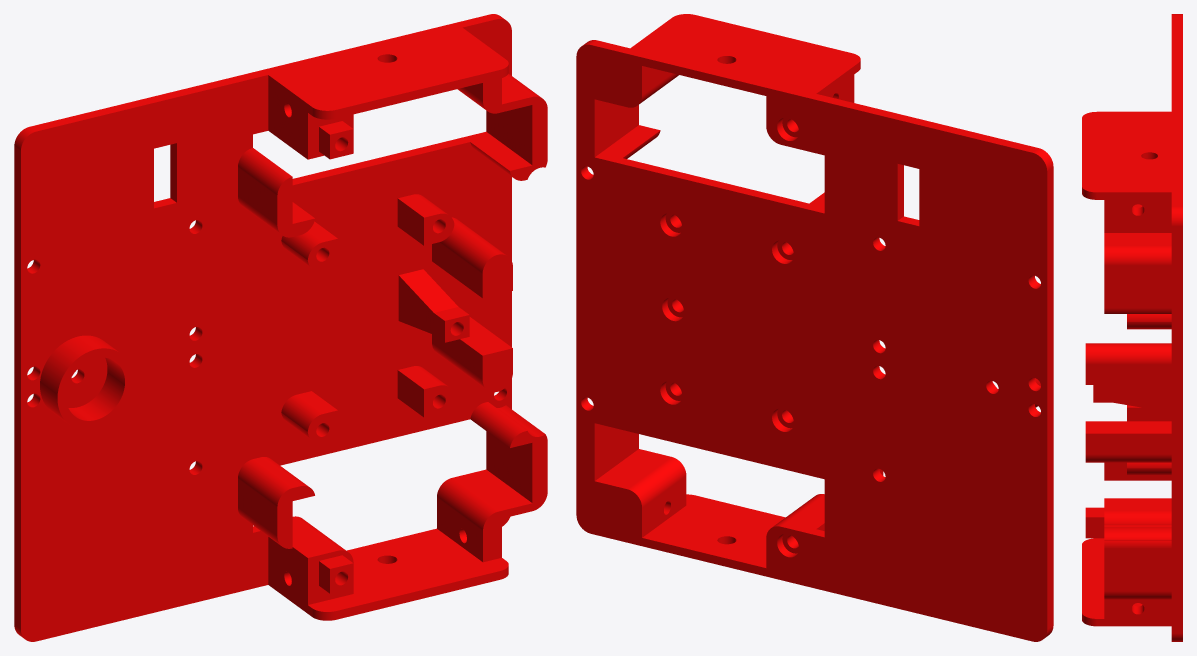
The model's file is chasis.glb.
3 renders of one model, left to right at view 1: azimuth 30°, elevation 25°; view 2: azimuth 150°, elevation 25°; view 3: azimuth 270°, elevation 25°, orthographic. The views are drawn at different scales.
Size of the model in its own units: 0.129 by 0.128 by 0.027.
